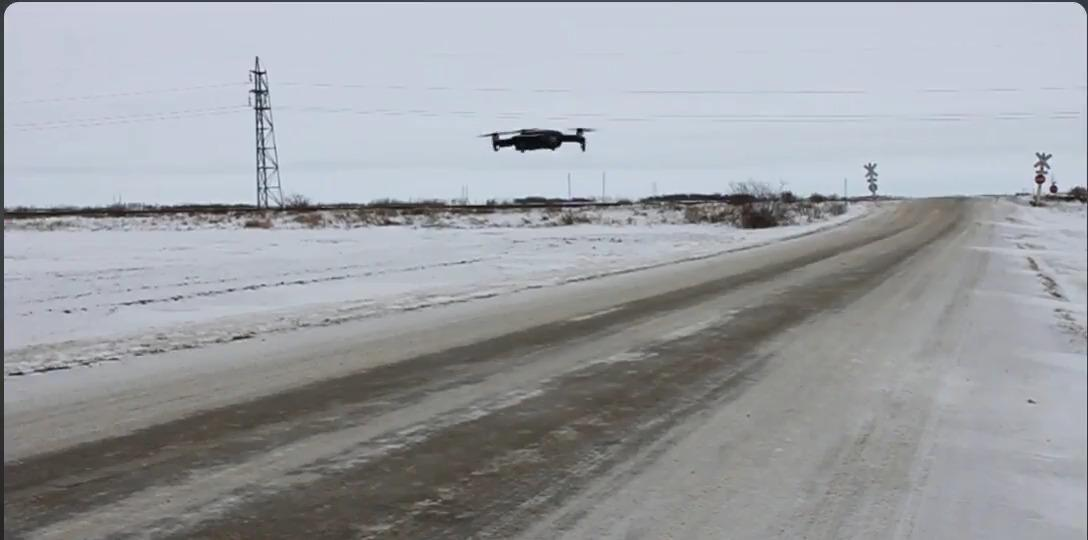dr: (464, 103, 640, 172)
